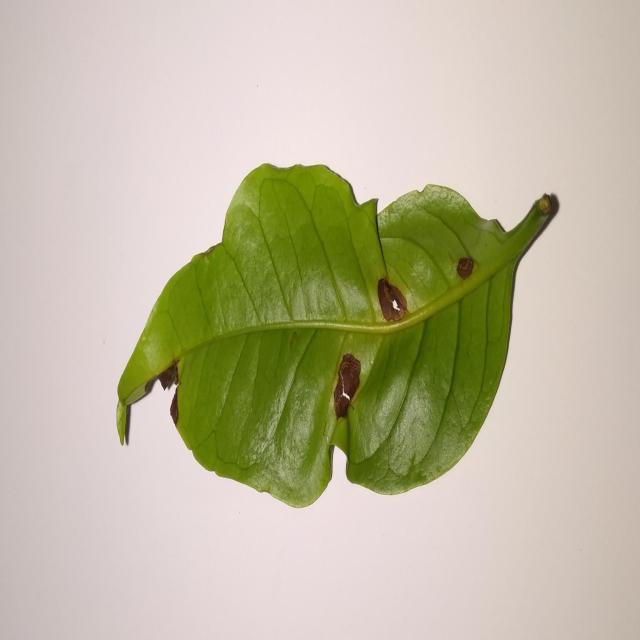Enfermedad-Antracnosis: (114, 163, 560, 511)
